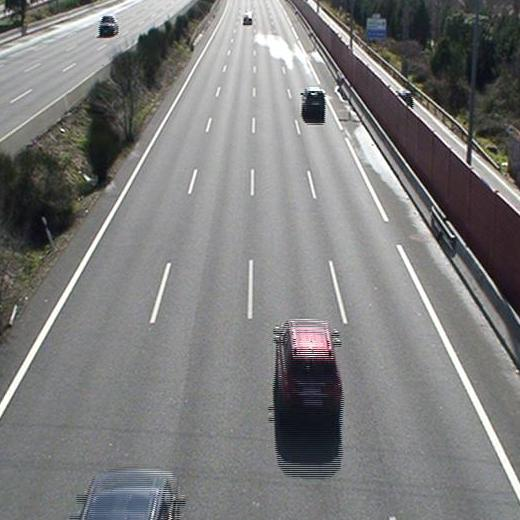car: (274, 320, 342, 419), (300, 87, 326, 120), (242, 12, 253, 24)
